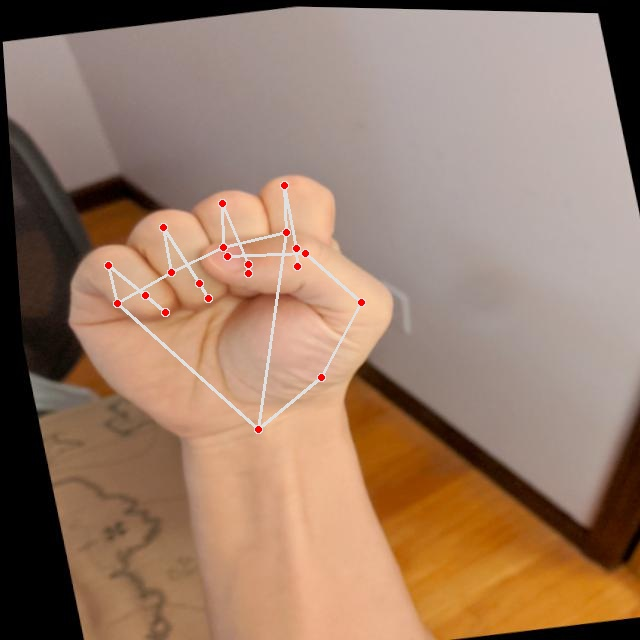S: (27, 151, 422, 460)
